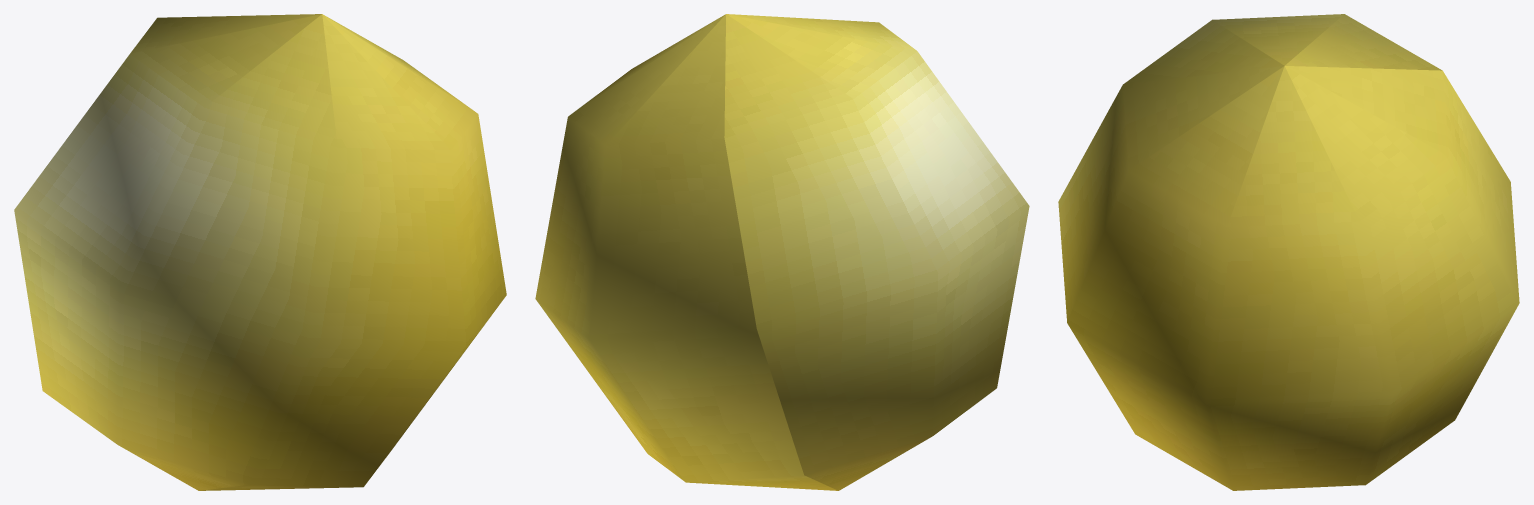
Rendered from Boll19.obj.
3 renders of one model, left to right at view 1: azimuth 30°, elevation 25°; view 2: azimuth 150°, elevation 25°; view 3: azimuth 270°, elevation 25°, orthographic. The views are drawn at different scales.
Parts seen in each view (by area): view 1: Boll19; view 2: Boll19; view 3: Boll19.
Boxes of the visible parts, <box> form: Boll19: <box>14,14,506,490</box>; Boll19: <box>535,14,1029,490</box>; Boll19: <box>1058,14,1519,490</box>.
Bounding box in the file's own units: 16.98 × 18.07 × 17.64.
